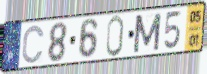0: (105, 14, 125, 59)
5: (163, 10, 182, 51)
6: (77, 17, 99, 60)
8: (47, 21, 69, 64)
C: (21, 24, 46, 65)
M: (132, 12, 163, 55)
